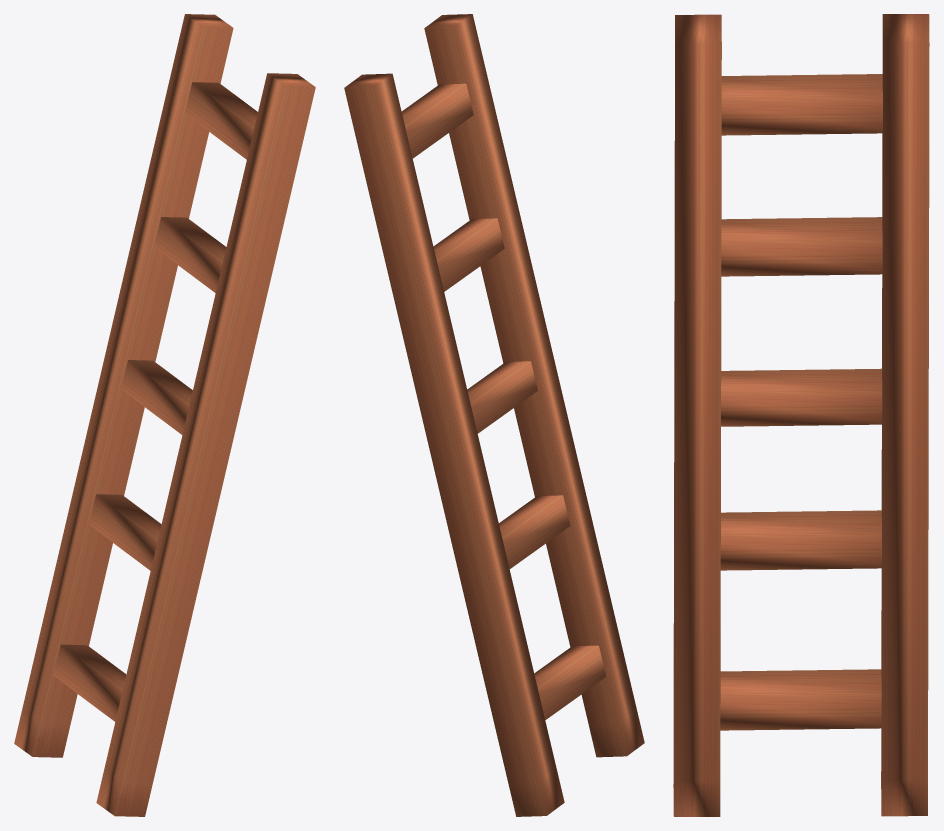
File: ladder.glb
3 renders of one model, left to right at view 1: azimuth 30°, elevation 25°; view 2: azimuth 150°, elevation 25°; view 3: azimuth 270°, elevation 25°, orthographic. The views are drawn at different scales.
Parts seen in each view (by area): view 1: Cube.002; view 2: Cube.002; view 3: Cube.002.
Part boxes in pixels (<box>): Cube.002: <box>14,14,315,816</box>; Cube.002: <box>344,14,644,816</box>; Cube.002: <box>673,14,929,816</box>.
Size of the model in its own units: 12.93 by 42.32 by 11.03.
Materials: 1 (1 with a texture image).
